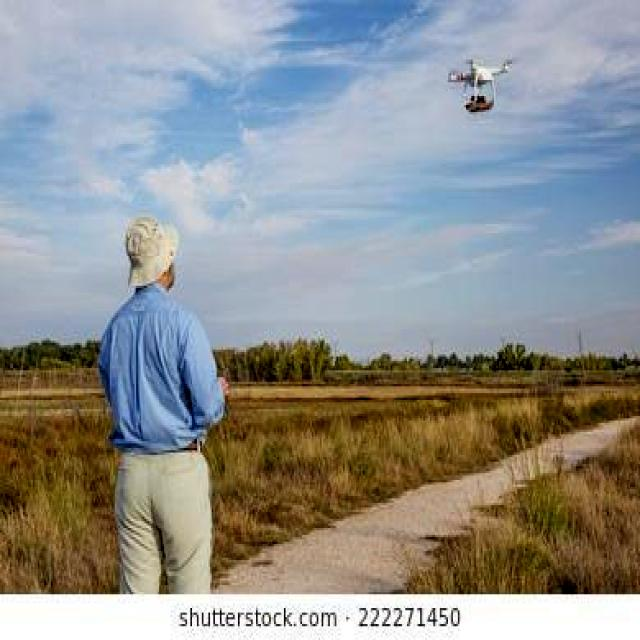drone: (446, 53, 514, 112)
